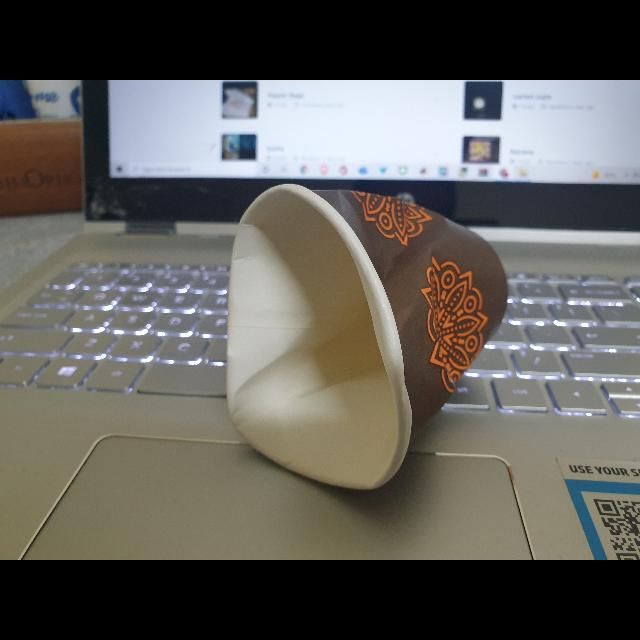trash: (214, 180, 522, 492)
